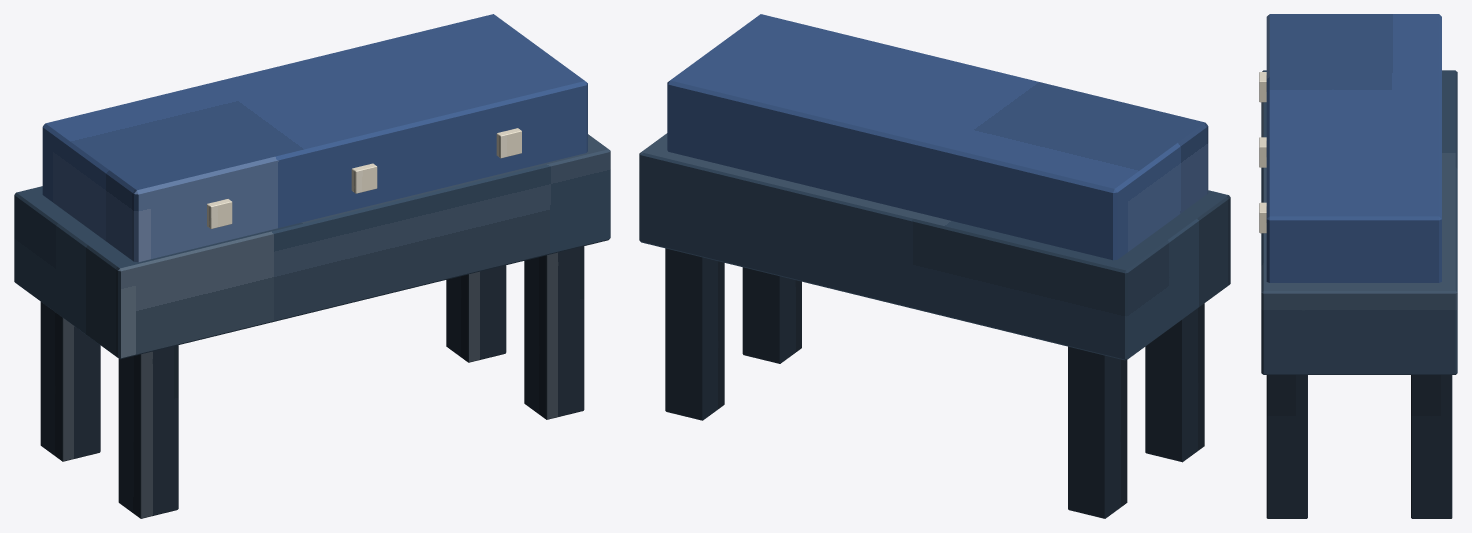
File: bedroom_bench_navy.glb
3 renders of one model, left to right at view 1: azimuth 30°, elevation 25°; view 2: azimuth 150°, elevation 25°; view 3: azimuth 270°, elevation 25°, orthographic. The views are drawn at different scales.
Visible parts, largest first — view 1: BenchCushion, BenchFrame, BenchLeg_R_F, BenchLeg_L_F, BenchLeg_L_B, BenchLeg_R_B, BenchTuft_0.0, BenchTuft_0.3, BenchTuft_-0.3; view 2: BenchCushion, BenchFrame, BenchLeg_R_B, BenchLeg_L_B, BenchLeg_L_F, BenchLeg_R_F; view 3: BenchCushion, BenchFrame, BenchLeg_R_B, BenchLeg_R_F, BenchTuft_0.3, BenchTuft_0.0, BenchTuft_-0.3.
Part boxes in pixels (x1=…): BenchCushion: x1=42, y1=14, x2=587, y2=262; BenchFrame: x1=14, y1=134, x2=610, y2=359; BenchLeg_R_F: x1=524, y1=246, x2=584, y2=419; BenchLeg_L_F: x1=118, y1=345, x2=178, y2=518; BenchLeg_L_B: x1=40, y1=302, x2=100, y2=461; BenchLeg_R_B: x1=446, y1=265, x2=506, y2=362; BenchTuft_0.0: x1=351, y1=163, x2=377, y2=193; BenchTuft_0.3: x1=496, y1=128, x2=521, y2=158; BenchTuft_-0.3: x1=207, y1=199, x2=232, y2=228; BenchCushion: x1=667, y1=14, x2=1208, y2=260; BenchFrame: x1=639, y1=133, x2=1230, y2=360; BenchLeg_R_B: x1=665, y1=248, x2=724, y2=420; BenchLeg_L_B: x1=1068, y1=346, x2=1127, y2=518; BenchLeg_L_F: x1=1145, y1=303, x2=1204, y2=462; BenchLeg_R_F: x1=742, y1=267, x2=801, y2=363; BenchCushion: x1=1266, y1=14, x2=1441, y2=282; BenchFrame: x1=1261, y1=70, x2=1457, y2=374; BenchLeg_R_B: x1=1411, y1=375, x2=1452, y2=518; BenchLeg_R_F: x1=1266, y1=375, x2=1307, y2=518; BenchTuft_0.3: x1=1259, y1=202, x2=1266, y2=233; BenchTuft_0.0: x1=1259, y1=137, x2=1266, y2=167; BenchTuft_-0.3: x1=1259, y1=72, x2=1266, y2=102.
Size of the model in its own units: 1.02 by 0.65 by 0.384.
1 material, 1 textured.
